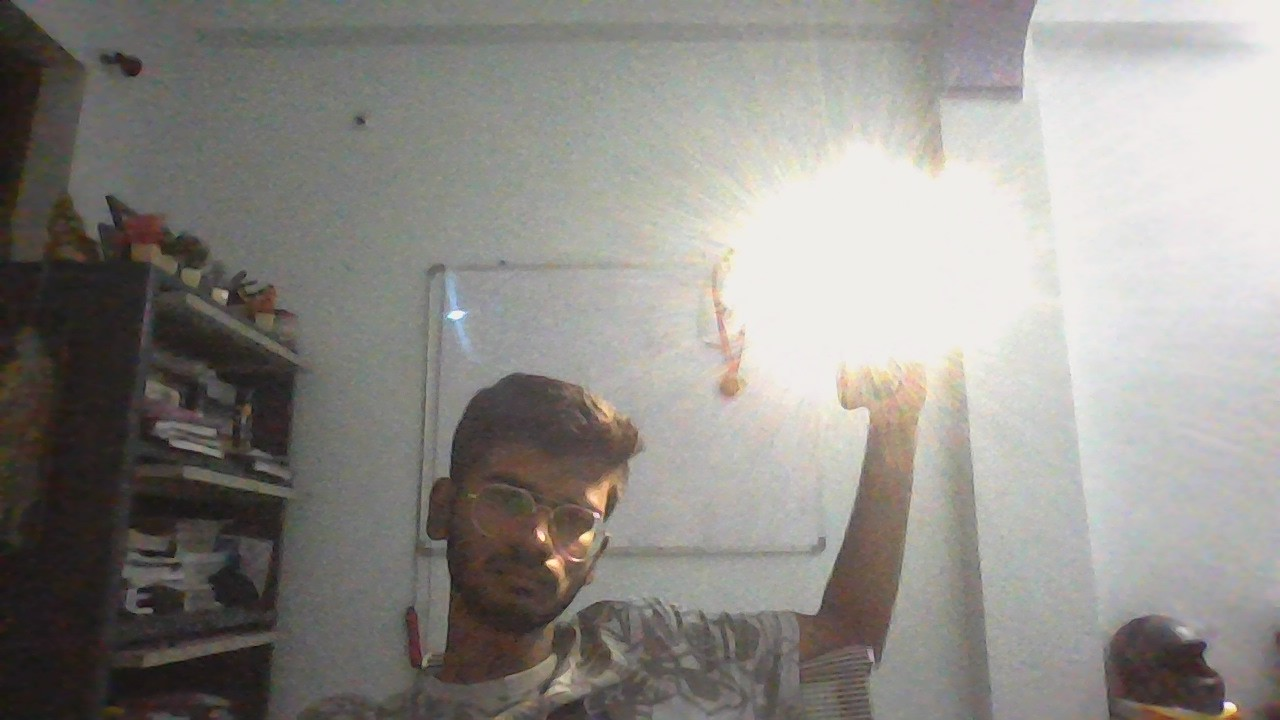Glare: (736, 133, 1039, 387)
